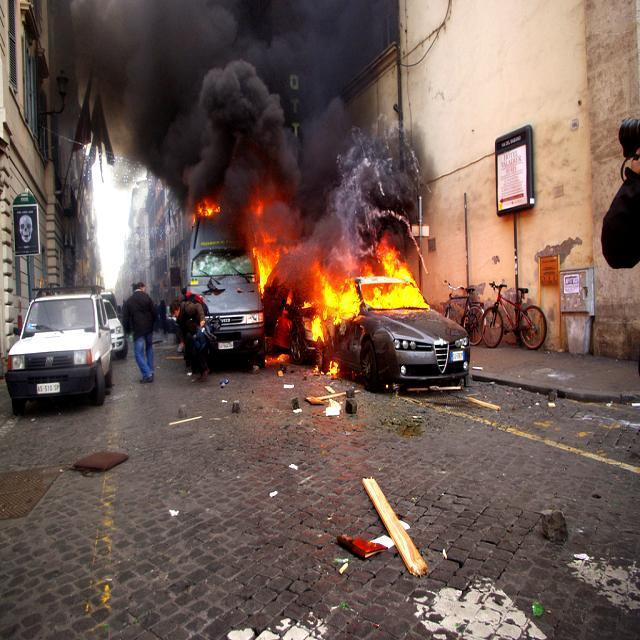Fire: (308, 240, 428, 314), (251, 239, 276, 294), (305, 300, 328, 348), (326, 358, 340, 377)
Smoke: (31, 0, 444, 225)
